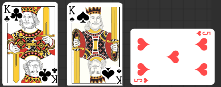5H: (133, 76, 149, 83), (195, 30, 211, 37)
